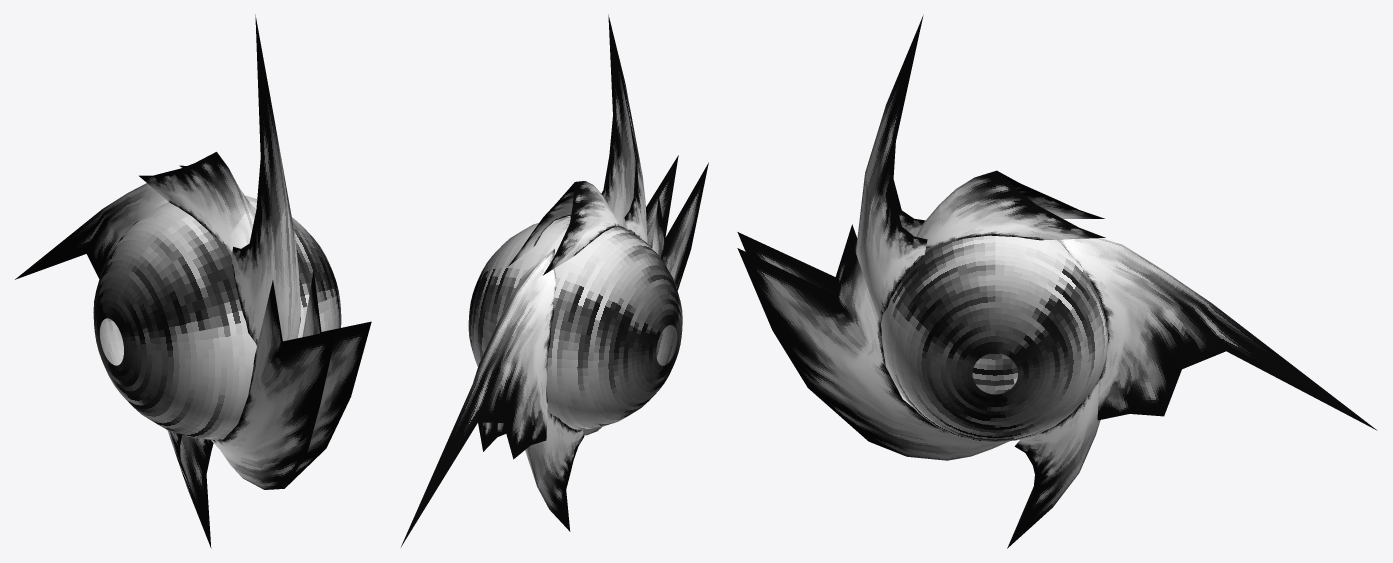
Rendered from SpinL.obj.
3 views of the same model, side by side, from view 1: azimuth 30°, elevation 25°; view 2: azimuth 150°, elevation 25°; view 3: azimuth 270°, elevation 25° (orthographic). The views are drawn at different scales.
Parts seen in each view (by area): view 1: polygon0, polygon12; view 2: polygon0, polygon12; view 3: polygon0, polygon12.
Part boxes in pixels (x1=…): polygon0: x1=15, y1=14, x2=371, y2=548; polygon12: x1=93, y1=195, x2=341, y2=440; polygon0: x1=401, y1=14, x2=708, y2=546; polygon12: x1=468, y1=216, x2=682, y2=430; polygon0: x1=737, y1=15, x2=1377, y2=548; polygon12: x1=881, y1=235, x2=1108, y2=442.
Size of the model in its own units: 9.49 by 24.37 by 26.48.
2 materials, 2 textured.
